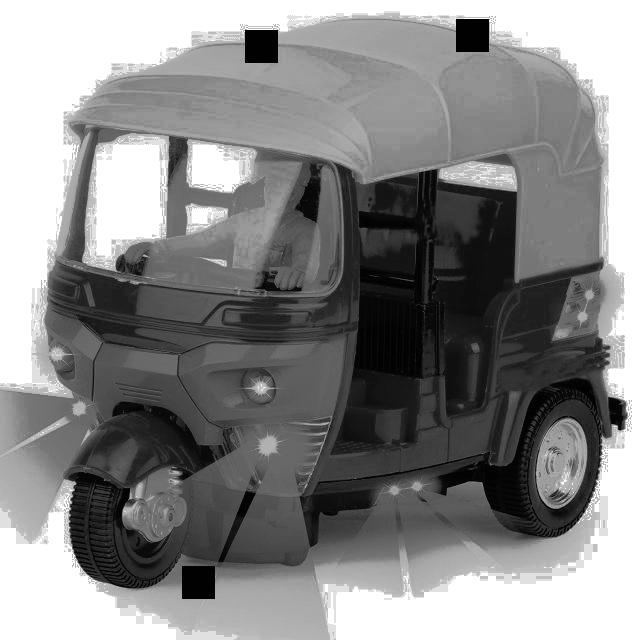Auto-Rickshaw: (30, 23, 640, 640)
